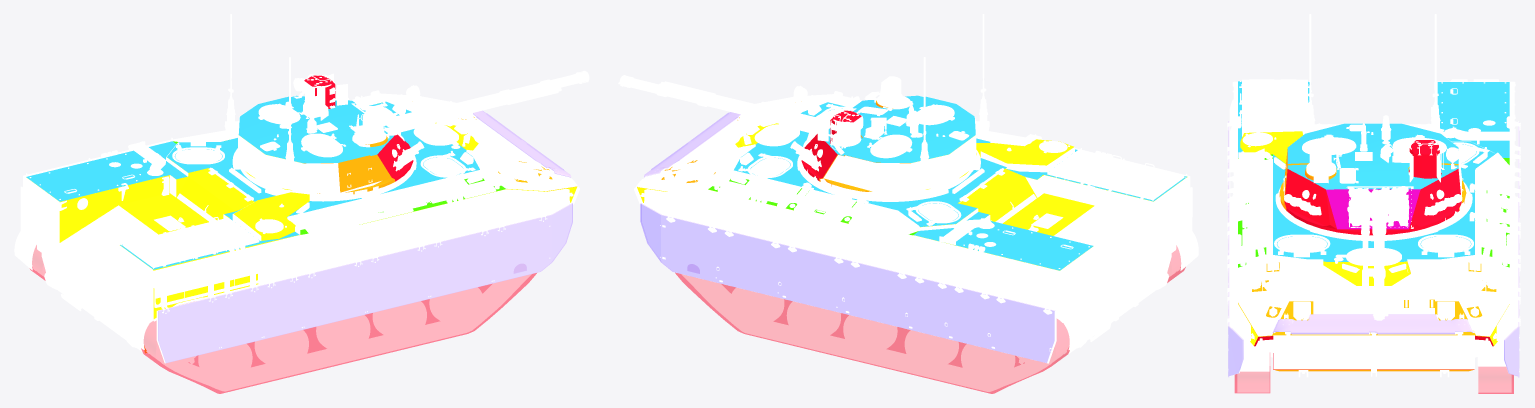
Rendered from BMD4M.gltf.
3 views of the same model, side by side, from view 1: azimuth 30°, elevation 25°; view 2: azimuth 150°, elevation 25°; view 3: azimuth 270°, elevation 25° (orthographic). The views are drawn at different scales.
Parts seen in each view (by area): view 1: 42_2, 42_3, BMD4M_Skirts_Col_Right_80, BMD4M_Tracks_Col_Right_101, BMD4M_Col_2, 42_6, BMD4M_Col_3, 42_1, BMD4M_Turret_Col_3, 42_4, BMD4M_Turret_Col_1, BMD4M_Turret_Col (+2 smaller); view 2: 42_2, 42_3, BMD4M_Skirts_Col_Left_77, BMD4M_Tracks_Col_Left_98, 42_6, BMD4M_Col_3, BMD4M_Col_2, 42, BMD4M_Turret_Col_3, 42_4, BMD4M_WaterShield_Col_92, BMD4M_Turret_Col (+1 smaller); view 3: 42_3, BMD4M_Col_3, 42_2, 42_6, BMD4M_Turret_Col_3, BMD4M_Turret_Col, 42_4, BMD4M_WaterShield_Col_92, BMD4M_Col_2, BMD4M_Col_1, 42, 42_1 (+9 smaller).
Boxes of the visible parts, <box> form: 42_2: <box>20,85,571,385</box>; 42_3: <box>14,90,579,353</box>; BMD4M_Skirts_Col_Right_80: <box>158,203,572,363</box>; BMD4M_Tracks_Col_Right_101: <box>141,273,536,393</box>; BMD4M_Col_2: <box>27,122,576,318</box>; 42_6: <box>224,14,424,196</box>; BMD4M_Col_3: <box>26,101,479,269</box>; 42_1: <box>143,274,531,391</box>; BMD4M_Turret_Col_3: <box>238,95,394,163</box>; 42_4: <box>356,70,589,141</box>; BMD4M_Turret_Col_1: <box>304,136,395,194</box>; BMD4M_Turret_Col: <box>304,75,413,181</box>; 42_2: <box>642,85,1192,386</box>; 42_3: <box>634,91,1198,353</box>; BMD4M_Skirts_Col_Left_77: <box>640,203,1054,362</box>; BMD4M_Tracks_Col_Left_98: <box>675,272,1069,393</box>; 42_6: <box>790,14,989,196</box>; BMD4M_Col_3: <box>734,102,1186,270</box>; BMD4M_Col_2: <box>637,123,1187,270</box>; 42: <box>681,274,1069,391</box>; BMD4M_Turret_Col_3: <box>825,95,975,162</box>; 42_4: <box>618,75,855,147</box>; BMD4M_WaterShield_Col_92: <box>644,112,740,177</box>; BMD4M_Turret_Col: <box>801,110,861,180</box>; 42_3: <box>1232,79,1515,377</box>; BMD4M_Col_3: <box>1238,81,1509,261</box>; 42_2: <box>1227,81,1520,376</box>; 42_6: <box>1280,14,1466,228</box>; BMD4M_Turret_Col_3: <box>1287,123,1458,189</box>; BMD4M_Turret_Col: <box>1284,140,1461,235</box>; 42_4: <box>1346,186,1409,320</box>; BMD4M_WaterShield_Col_92: <box>1272,314,1473,334</box>; BMD4M_Col_2: <box>1238,131,1509,345</box>; BMD4M_Col_1: <box>1238,261,1498,371</box>; 42: <box>1478,348,1511,392</box>; 42_1: <box>1237,348,1269,392</box>.
Size of the model in its own units: 7.17 by 3.83 by 3.36.
